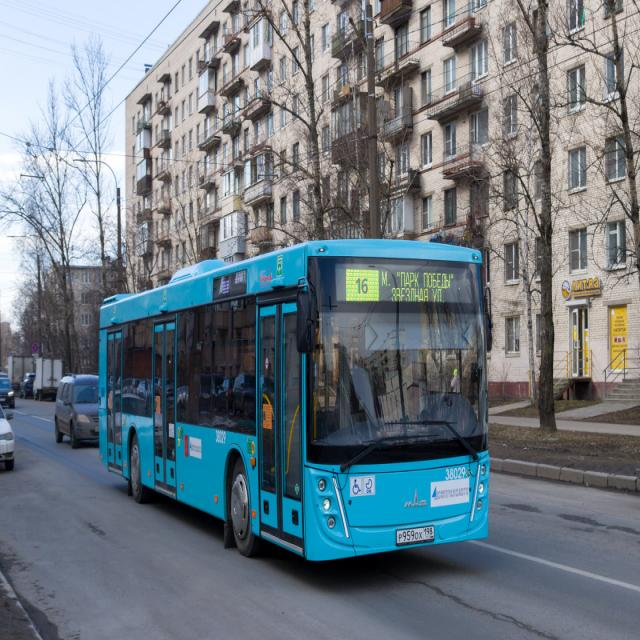number-of-bus: (355, 276, 373, 300)
